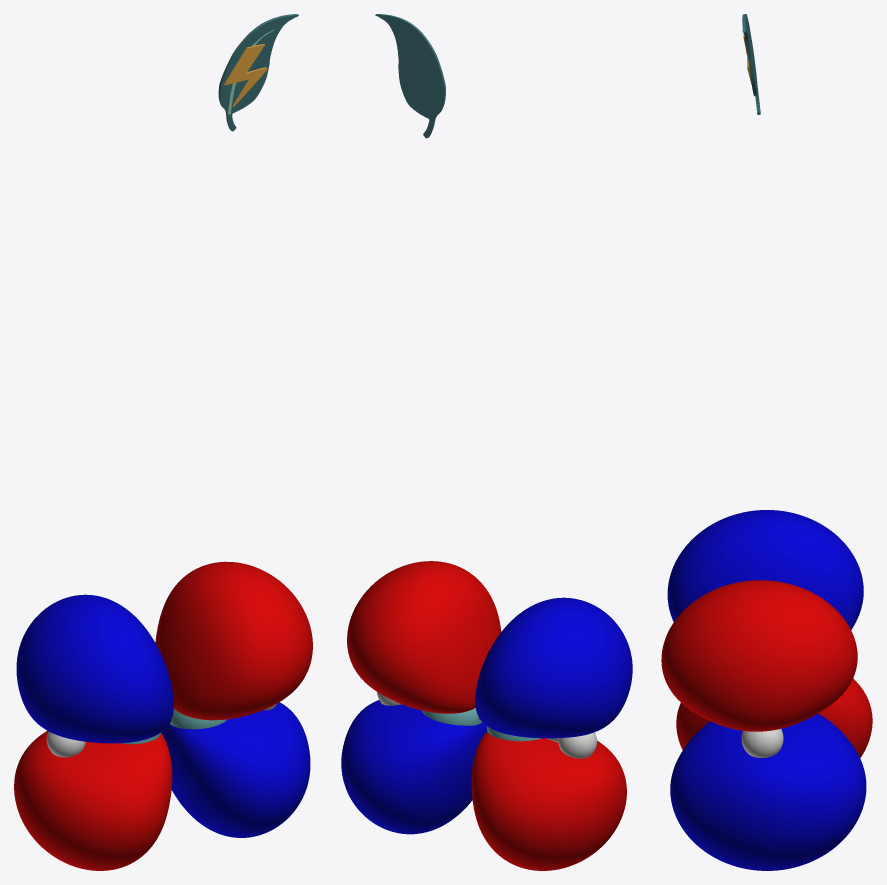
Rendered from c2h2_dob_ae.glb.
3 renders of one model, left to right at view 1: azimuth 30°, elevation 25°; view 2: azimuth 150°, elevation 25°; view 3: azimuth 270°, elevation 25°, orthographic. The views are drawn at different scales.
Visible parts, largest first — view 1: c2h2_dob_ae, path182, path186; view 2: c2h2_dob_ae, path182; view 3: c2h2_dob_ae, path182.
Boxes of the visible parts, <box> form: c2h2_dob_ae: <box>14,561,312,870</box>; path182: <box>218,14,298,131</box>; path186: <box>224,44,267,107</box>; c2h2_dob_ae: <box>341,561,632,870</box>; path182: <box>375,14,445,138</box>; c2h2_dob_ae: <box>661,510,872,870</box>; path182: <box>742,14,760,114</box>.
Bounding box in the file's own units: 2.13 × 6.13 × 1.35.
